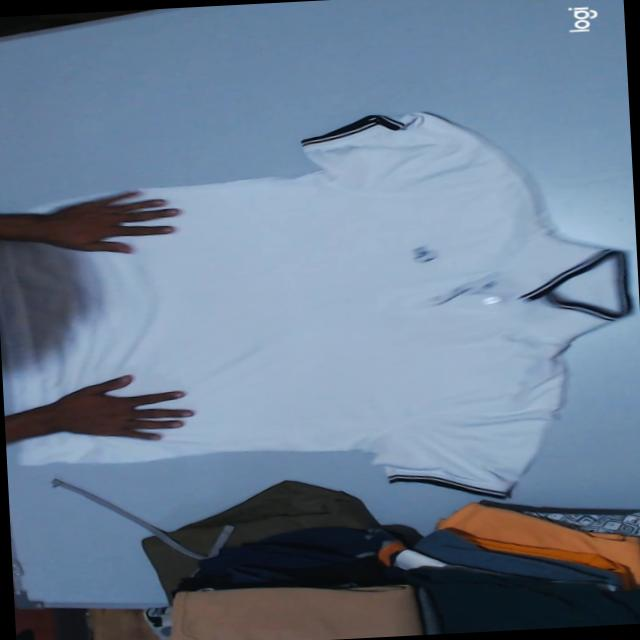new-garment: (0, 113, 630, 496)
